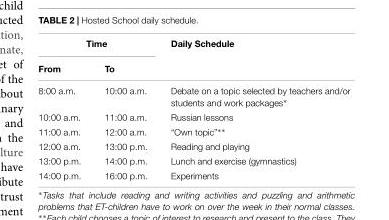table: (37, 37, 349, 180)
table column: (158, 37, 349, 180), (91, 37, 158, 180), (37, 37, 91, 180)
table column header: (37, 37, 349, 78)
table row: (37, 78, 349, 109), (37, 55, 349, 78), (37, 37, 349, 55), (37, 123, 349, 138), (37, 152, 349, 167), (37, 109, 349, 123), (37, 138, 349, 152), (37, 167, 349, 180)
table spanning cell: (158, 37, 349, 78), (37, 37, 158, 55)
